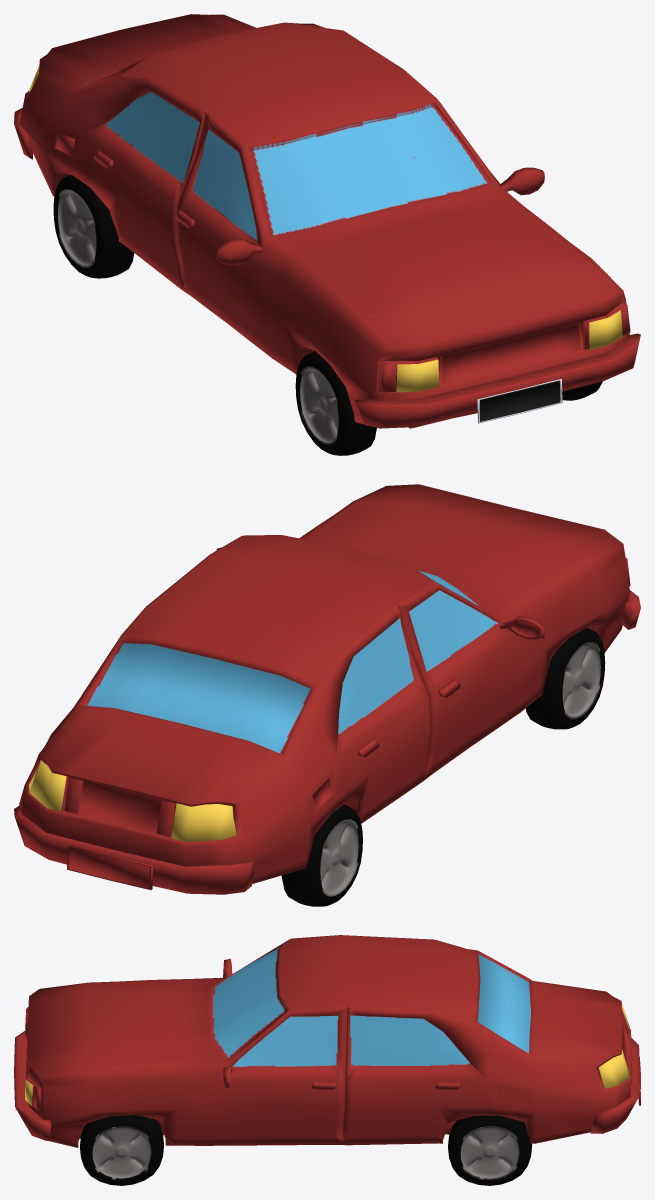
Rendered from Car_Medium.fbx.
The picture shows the model from 3 angles, top to bottom: view 1: azimuth 30°, elevation 25°; view 2: azimuth 150°, elevation 25°; view 3: azimuth 270°, elevation 25°; orthographic projection. The views are drawn at different scales.
Parts seen in each view (by area): view 1: Cube.010, Cube.009; view 2: Cube.010, Cube.009; view 3: Cube.010, Cube.009.
Boxes of the visible parts, x1,y1,x2,y2 form: Cube.010: [14, 14, 640, 428]; Cube.009: [53, 175, 602, 455]; Cube.010: [14, 484, 640, 894]; Cube.009: [281, 627, 605, 906]; Cube.010: [14, 935, 640, 1147]; Cube.009: [80, 1115, 532, 1185].
Size of the model in its own units: 179 by 121 by 392.
